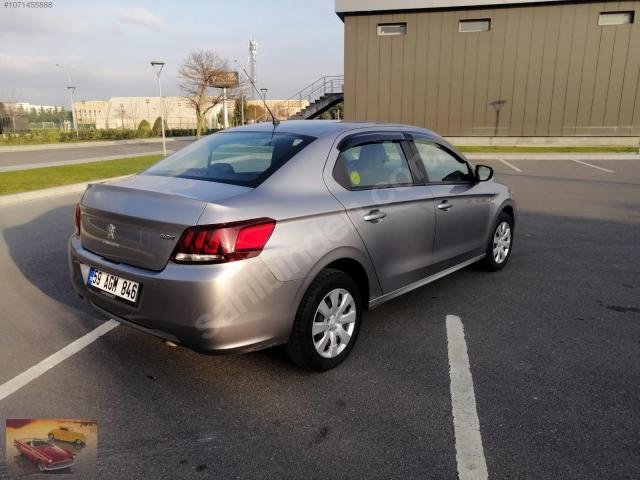plaka: (88, 268, 139, 302)
